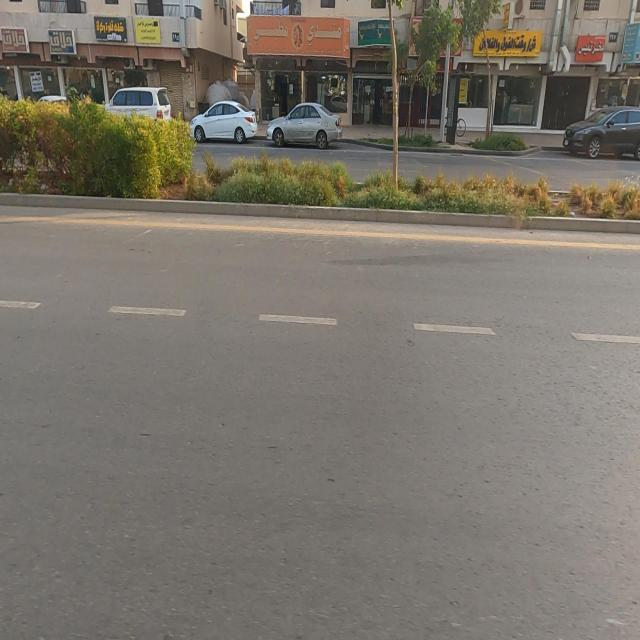debris: (180, 0, 406, 103)
